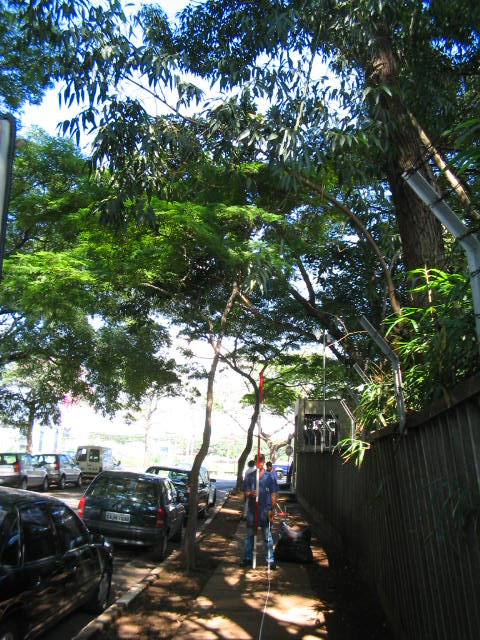stick: (241, 372, 272, 568)
